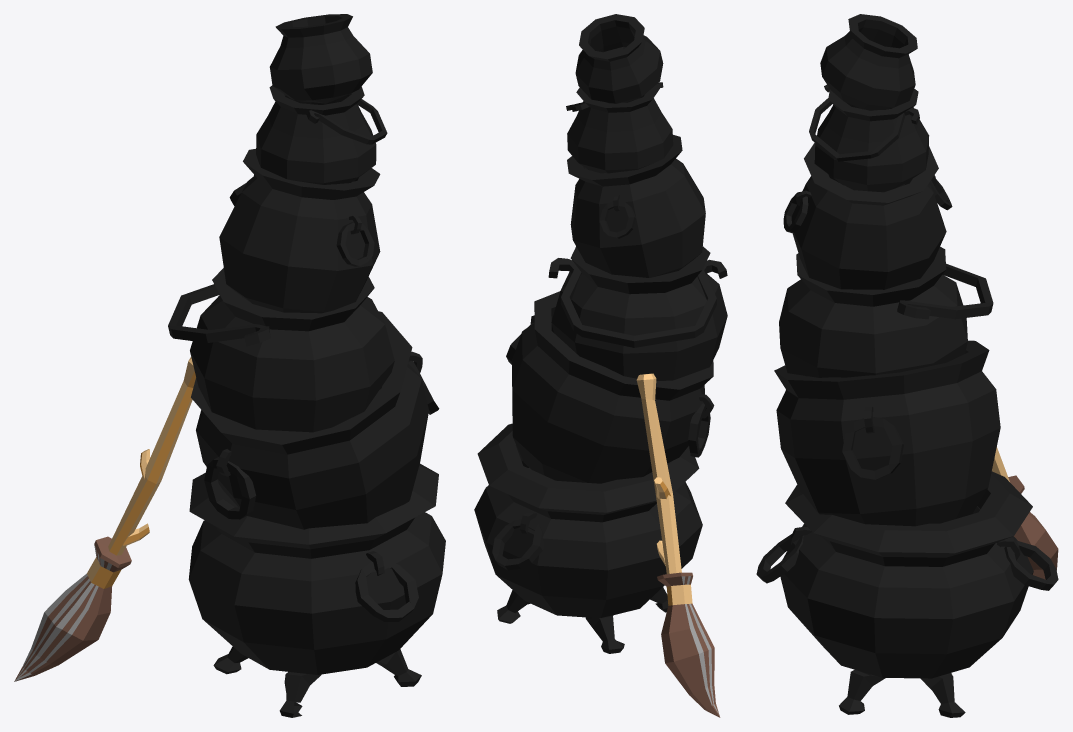
The model's file is Calderons.fbx.
The picture shows the model from 3 angles, left to right: view 1: azimuth 30°, elevation 25°; view 2: azimuth 150°, elevation 25°; view 3: azimuth 270°, elevation 25°; orthographic projection. The views are drawn at different scales.
Visible parts, largest first — view 1: calderons; view 2: calderons; view 3: calderons.
Boxes of the visible parts, x1,y1,x2,y2 form: calderons: (14,14,445,717); calderons: (474,14,727,717); calderons: (756,14,1058,717).
Bounding box in the file's own units: 44.05 × 84.61 × 35.32.
